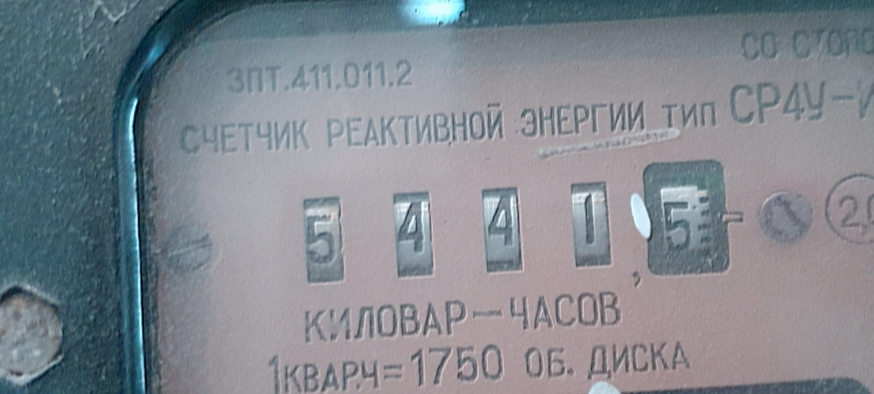1: (573, 189, 598, 248)
4: (479, 187, 517, 253), (390, 194, 427, 256)
5: (298, 210, 338, 267), (657, 194, 693, 257)
screen: (275, 136, 751, 311)
